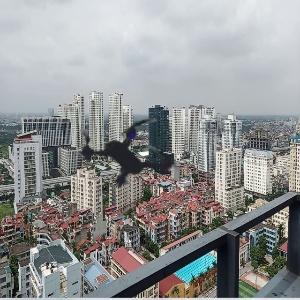drone: (33, 63, 221, 251)
